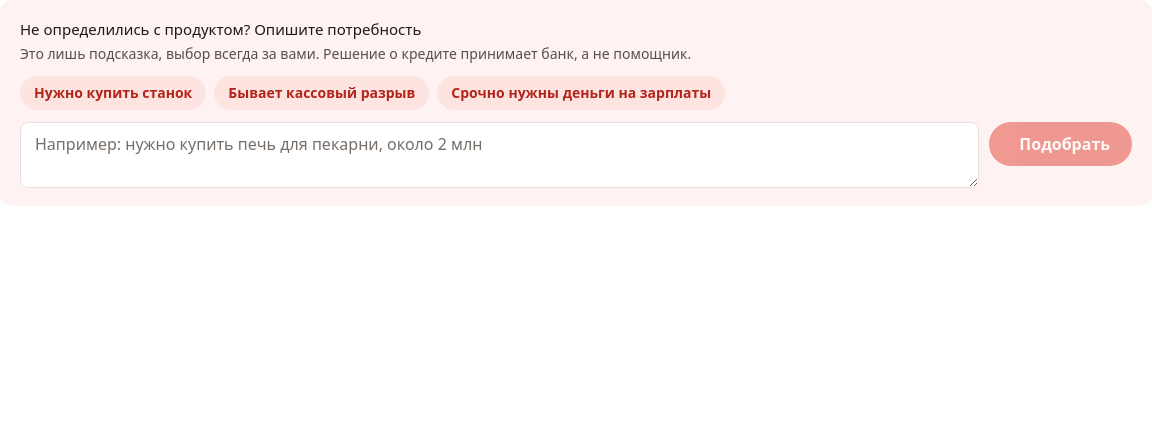
Assistant › survives browsers whose scrollIntoView returns a Promise
This screenshot has width=1152, height=434.
Click the button "Нужно купить станок".
click(113, 92)  # box [20,76,206,110]
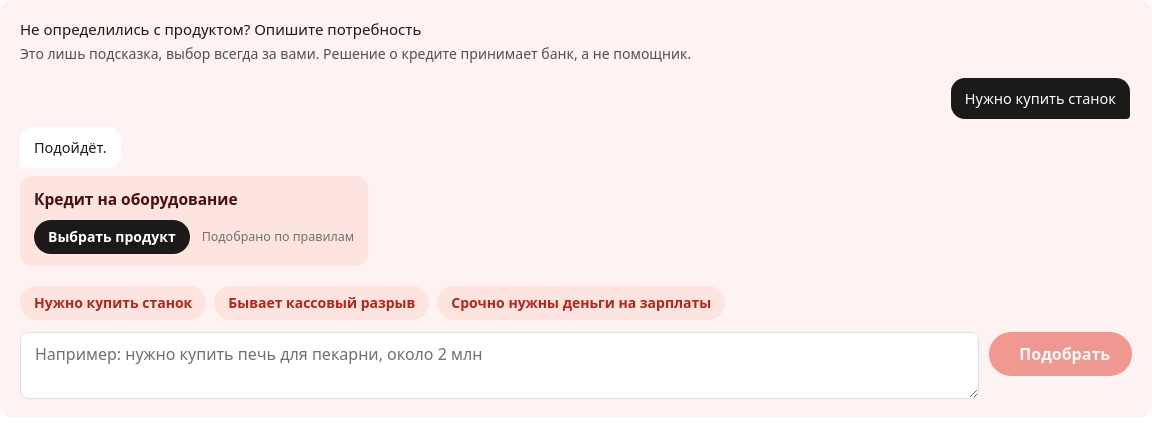
Now the text "Подойдёт." is shown, box [20,126,121,168]
